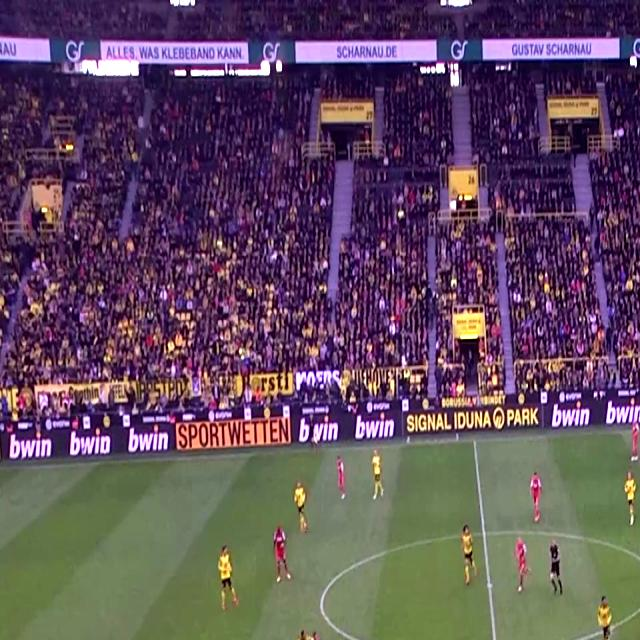referee: (544, 538, 570, 604)
soccer-player: (211, 538, 243, 614), (269, 524, 299, 592), (458, 521, 484, 592), (508, 536, 532, 602), (288, 476, 313, 536), (589, 592, 618, 640), (528, 467, 551, 527), (620, 467, 640, 531), (366, 450, 387, 507), (334, 455, 352, 508), (624, 407, 640, 464), (286, 630, 310, 640), (636, 611, 640, 640)
